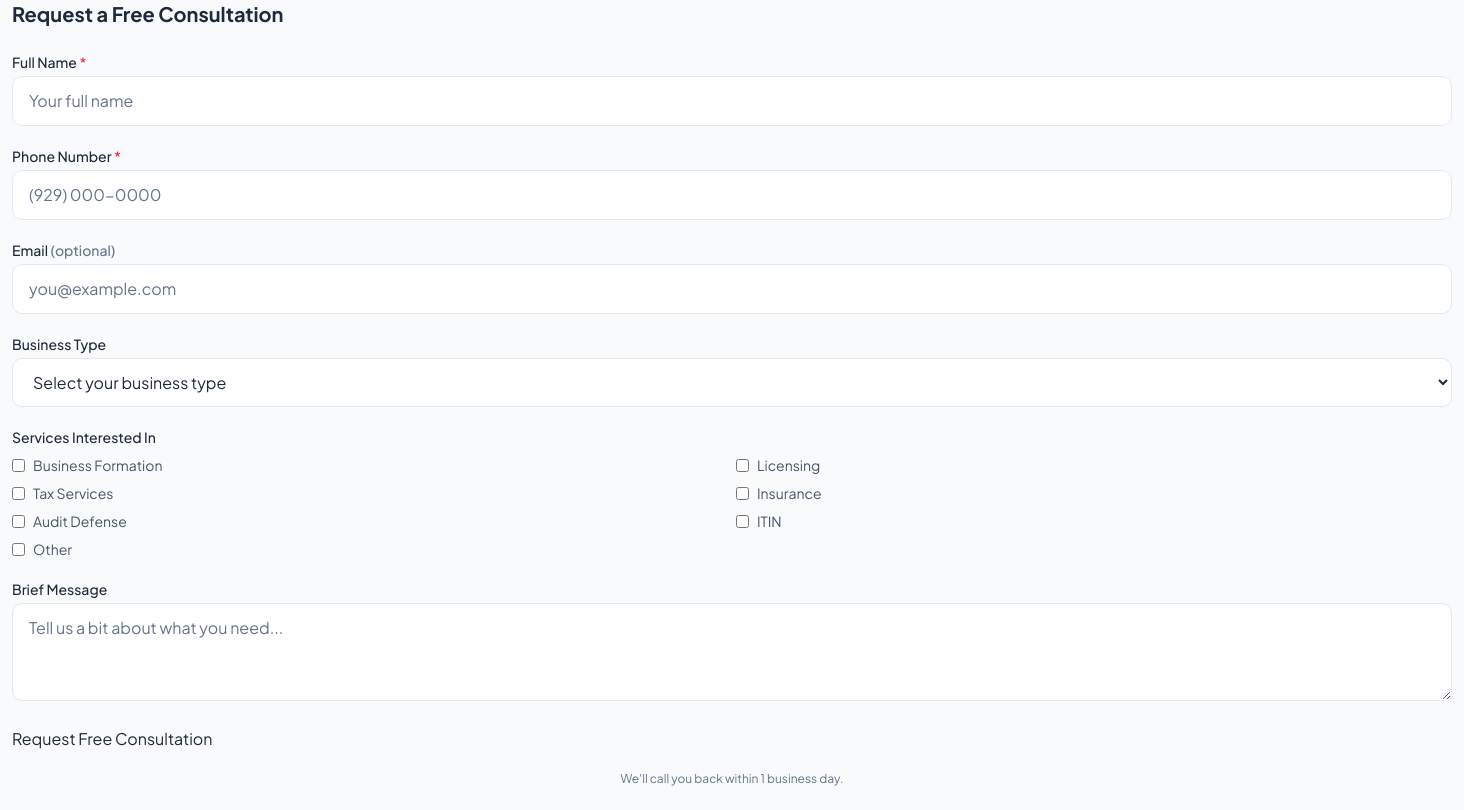
Test case: ContactForm › displays error message when the API returns a 500
The width and height of the screenshot is (1464, 810).
Step 1. Type "Jane Doe" into the field labelled "Full Name *" → (732, 101), box [12,76,1452,126]
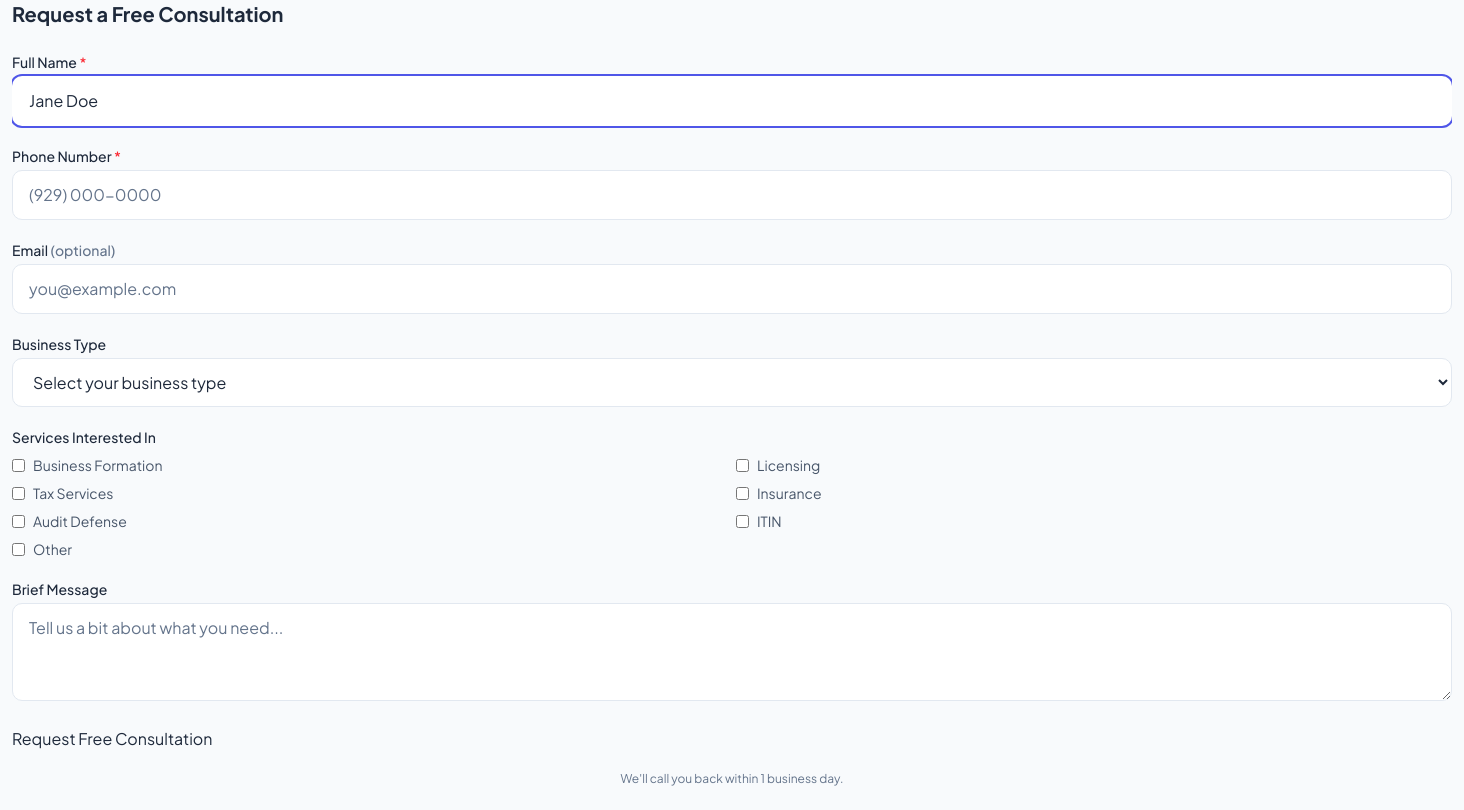
Step 2. Type "9299290000" into the field labelled "Phone Number *" → (732, 195), box [12,170,1452,220]
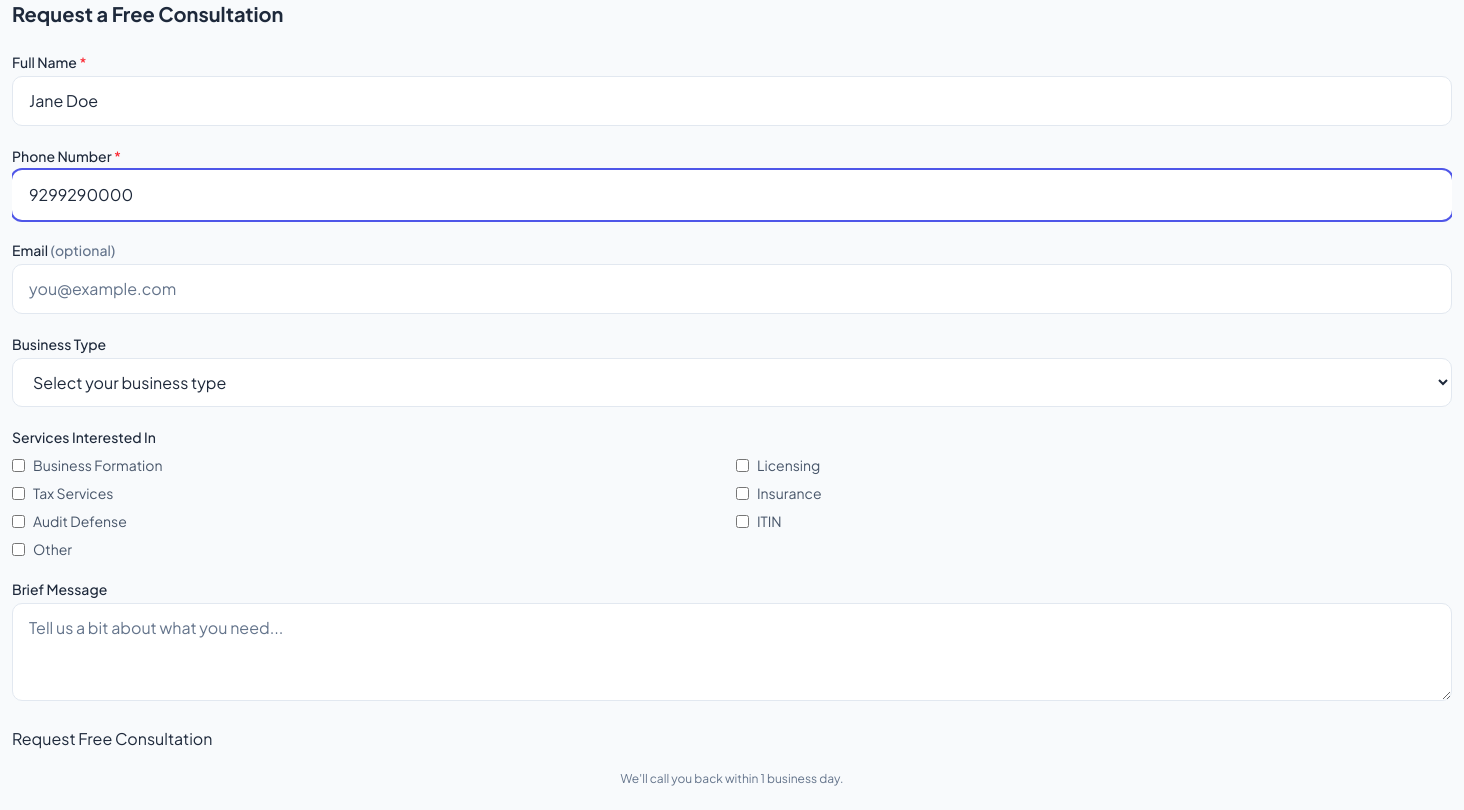
Step 3. Click the button "Request Free Consultation" → (112, 739), box [12,727,212,751]
(page scrolled)
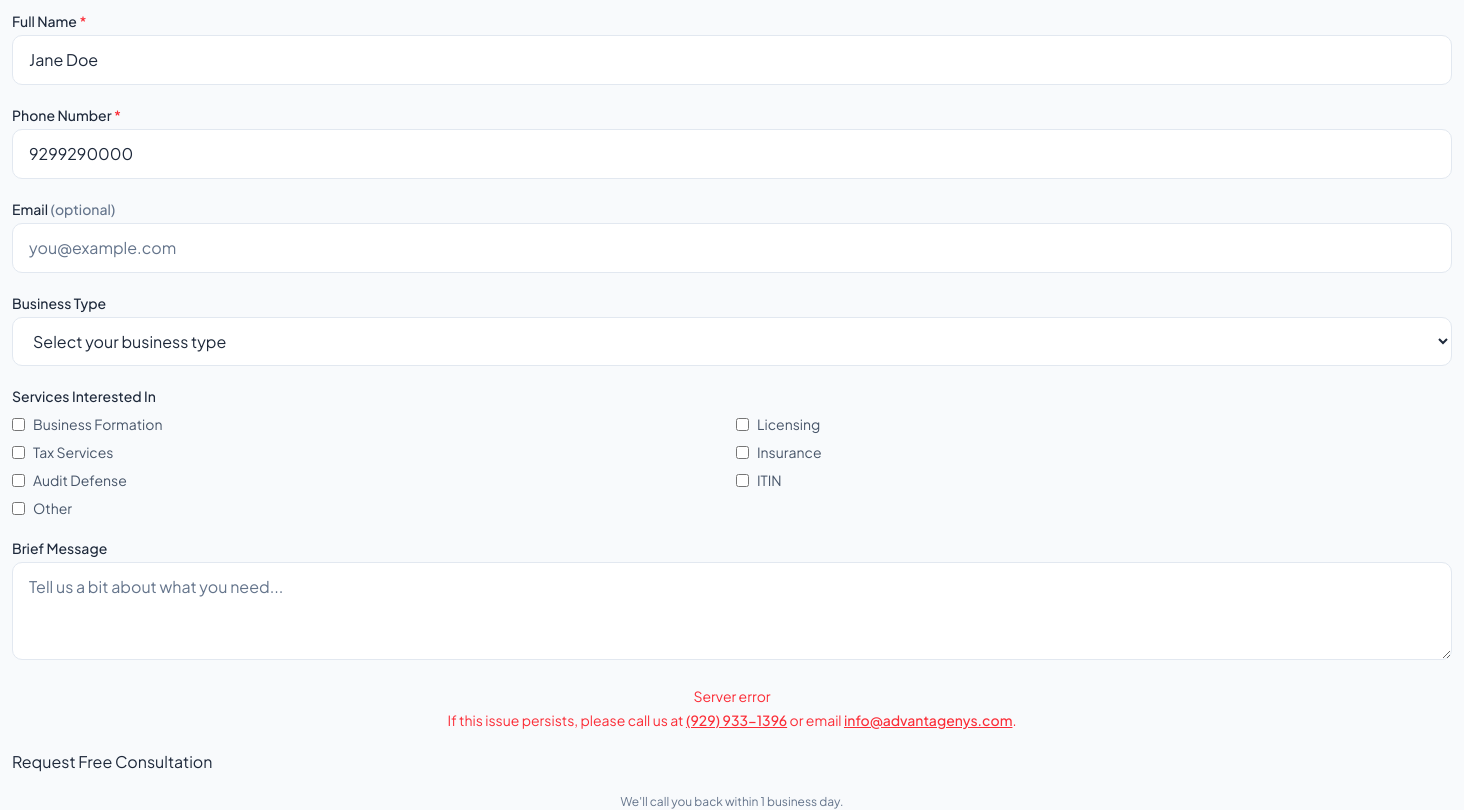
Expected: the button "Request Free Consultation" is shown, [12,750,212,774]
Expected: the text "Server error" is shown, [693,687,771,705]
